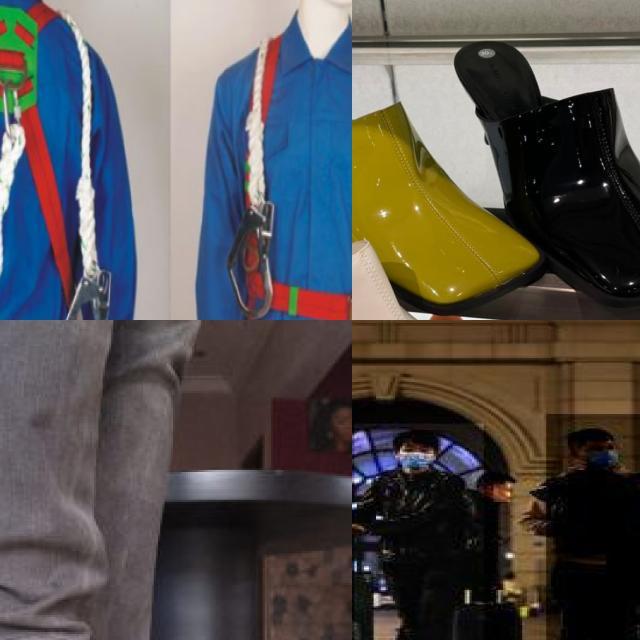Harness: (242, 35, 352, 320), (0, 0, 84, 320)
Sandals: (352, 42, 611, 320), (429, 24, 640, 320), (352, 178, 601, 320)
face_mask: (577, 439, 618, 466), (398, 442, 433, 468)
face_nomask: (493, 484, 512, 504)
head_nohelmet: (553, 425, 623, 446), (393, 430, 443, 446)
person: (354, 423, 486, 640), (546, 414, 640, 640)
